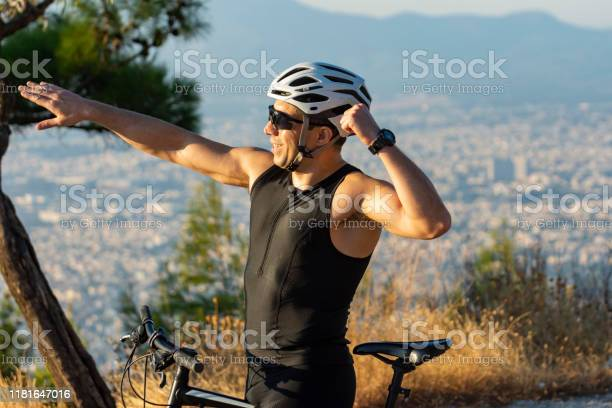helmet: (264, 61, 373, 172)
